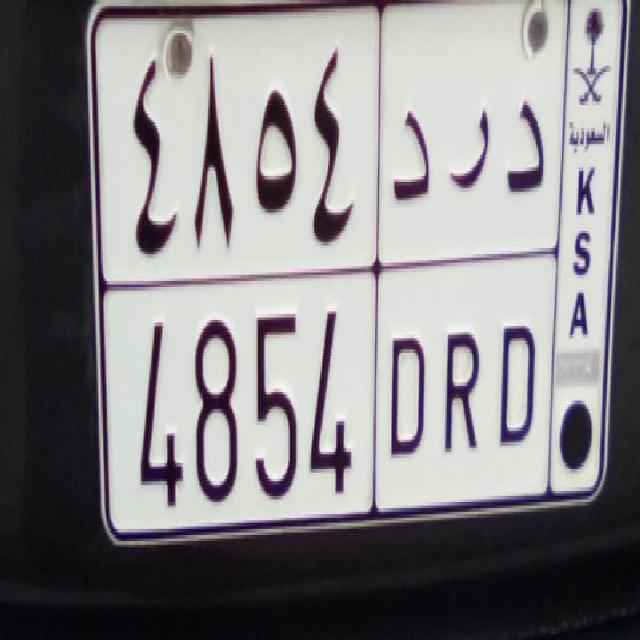license_plate: (122, 273, 552, 564)
